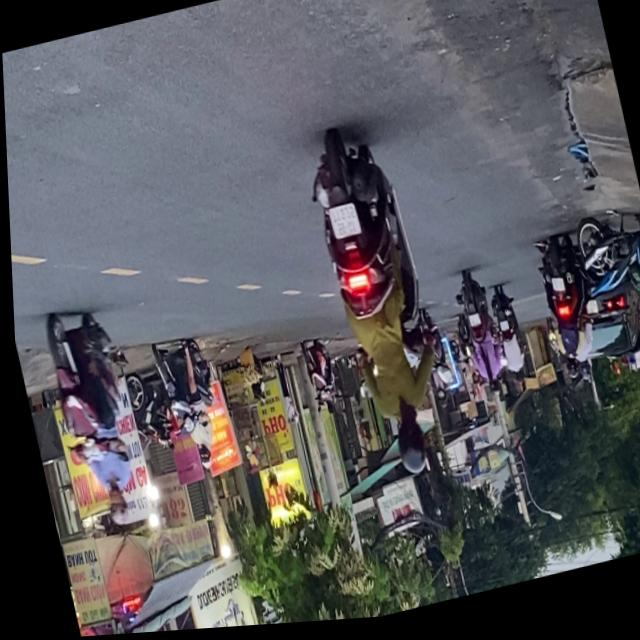helmet: (384, 417, 425, 483), (97, 485, 126, 529), (190, 445, 208, 472)
licenseplate: (291, 116, 457, 495), (31, 296, 149, 538), (143, 333, 226, 480)
nohelmet: (324, 207, 357, 245)
